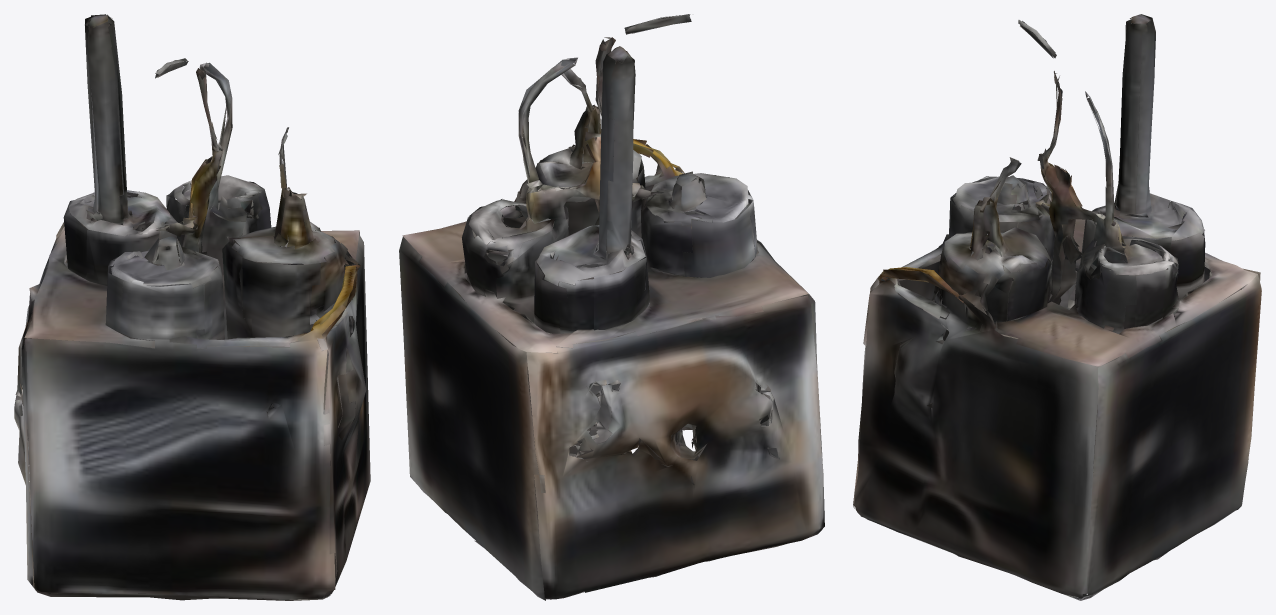
File: item.container.rustbound_cache.glb
3 renders of one model, left to right at view 1: azimuth 30°, elevation 25°; view 2: azimuth 150°, elevation 25°; view 3: azimuth 270°, elevation 25°, orthographic. The views are drawn at different scales.
Visible parts, largest first — view 1: circuit_box; view 2: circuit_box; view 3: circuit_box.
Part boxes in pixels (x1,y1,x2,y2): circuit_box: (14, 14, 370, 600); circuit_box: (399, 14, 824, 600); circuit_box: (853, 14, 1261, 600).
Bounding box in the file's own units: 0.9052 × 1.2 × 0.9089.
Materials: 1 (1 with a texture image).
